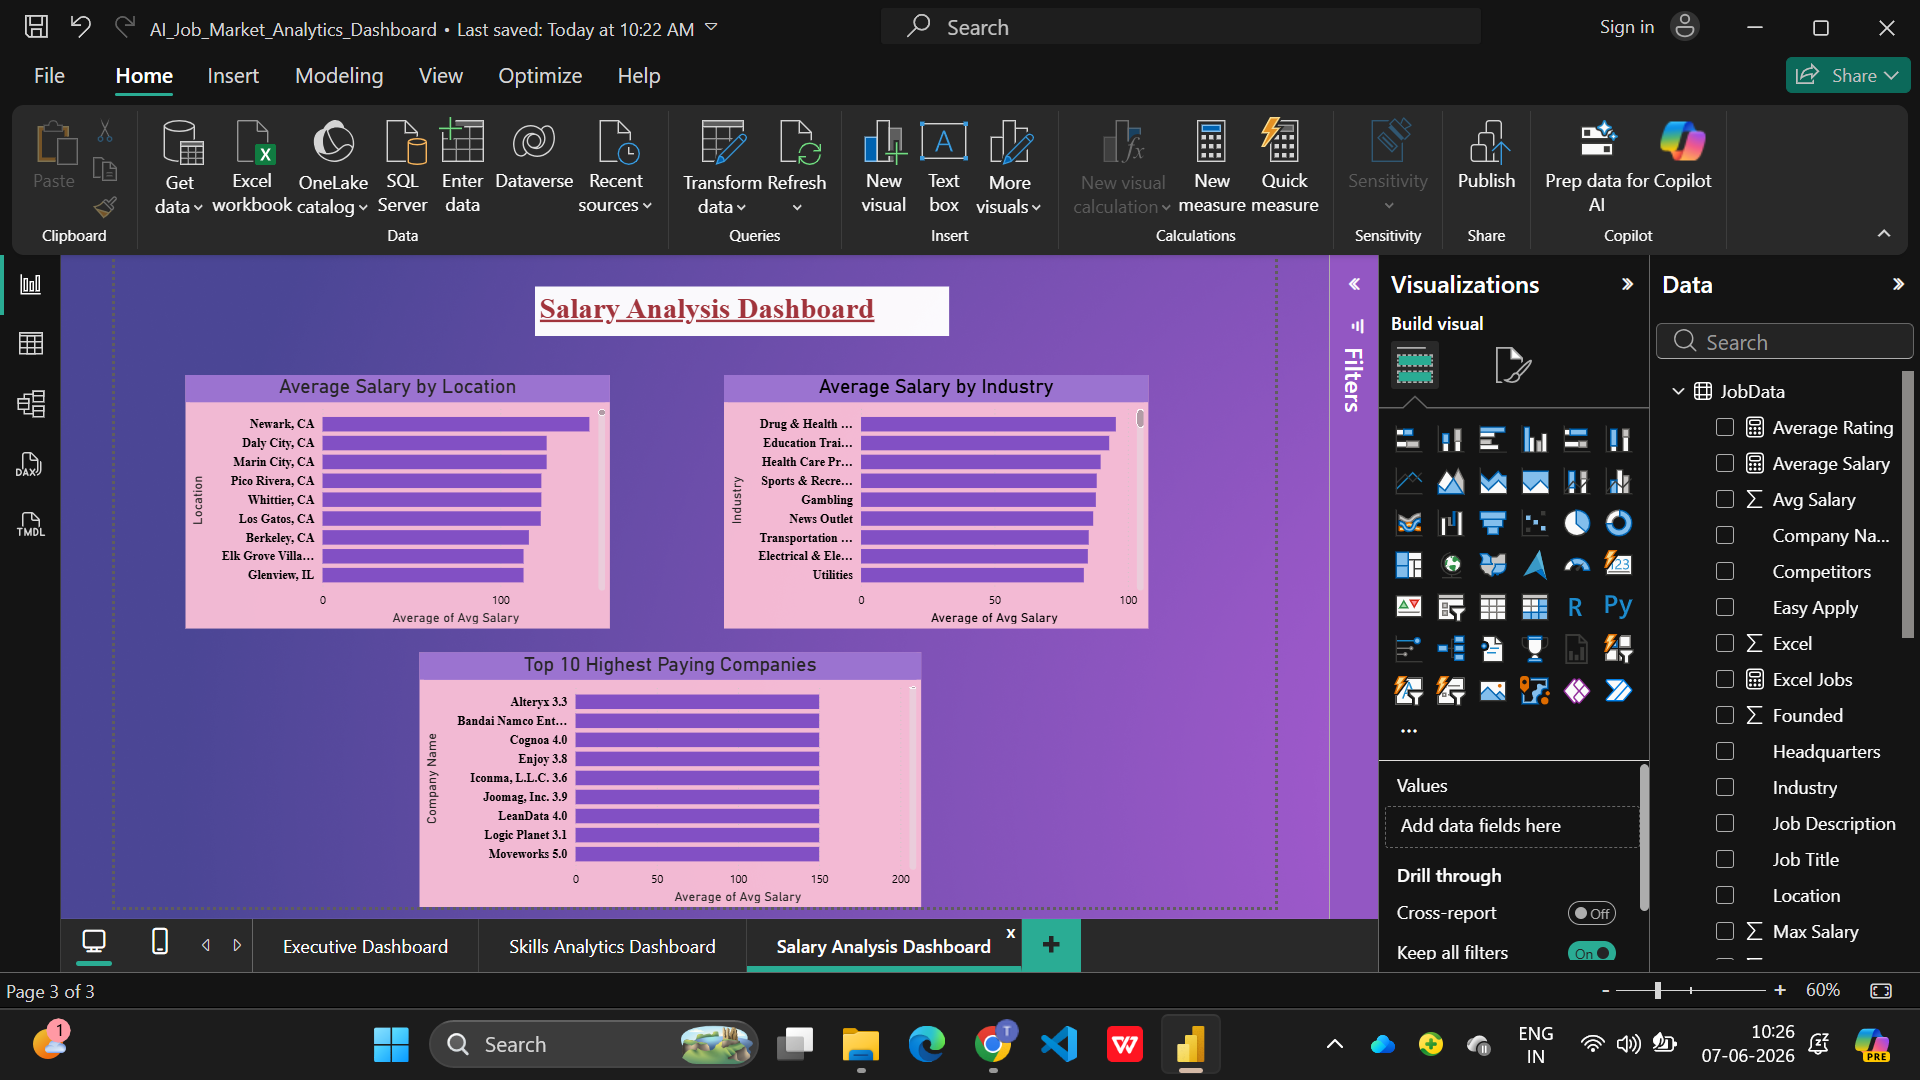

Layout of this report page (visuals, bound fields, positions):
{"tool":"powerbi","page":{"name":"Salary Analysis Dashboard","canvas":[1280,720],"ordinal":2},"visuals":[{"type":"clusteredBarChart","title":"Average Salary by Location","fields":{"Category":["JobData.Location"],"Y":["Avg(JobData.Avg Salary)"]},"box":[77.5,132.3,468.7,279.7],"z":0},{"type":"clusteredBarChart","title":"Average Salary by Industry","fields":{"Category":["JobData.Industry"],"Y":["Avg(JobData.Avg Salary)"]},"box":[672.8,132.3,468.7,279.7],"z":1},{"type":"clusteredBarChart","title":"Top 10 Highest Paying Companies","fields":{"Category":["JobData.Company Name"],"Y":["Avg(JobData.Avg Salary)"]},"box":[336.4,438.4,553.7,281.6],"z":2},{"type":"textbox","box":[463,34,457.3,54.8],"z":3}]}

Visuals, with their boxes on the page's 1280x720 design canvas (x1, y1, x2, y2). These are canvas units, not pixel positions in the 1920x1080 screenshot, which may show the page scaled, cropped or inside an application window:
"Average Salary by Location" clusteredBarChart: <box>78,132,546,412</box>
"Average Salary by Industry" clusteredBarChart: <box>673,132,1142,412</box>
"Top 10 Highest Paying Companies" clusteredBarChart: <box>336,438,890,720</box>
textbox: <box>463,34,920,89</box>
